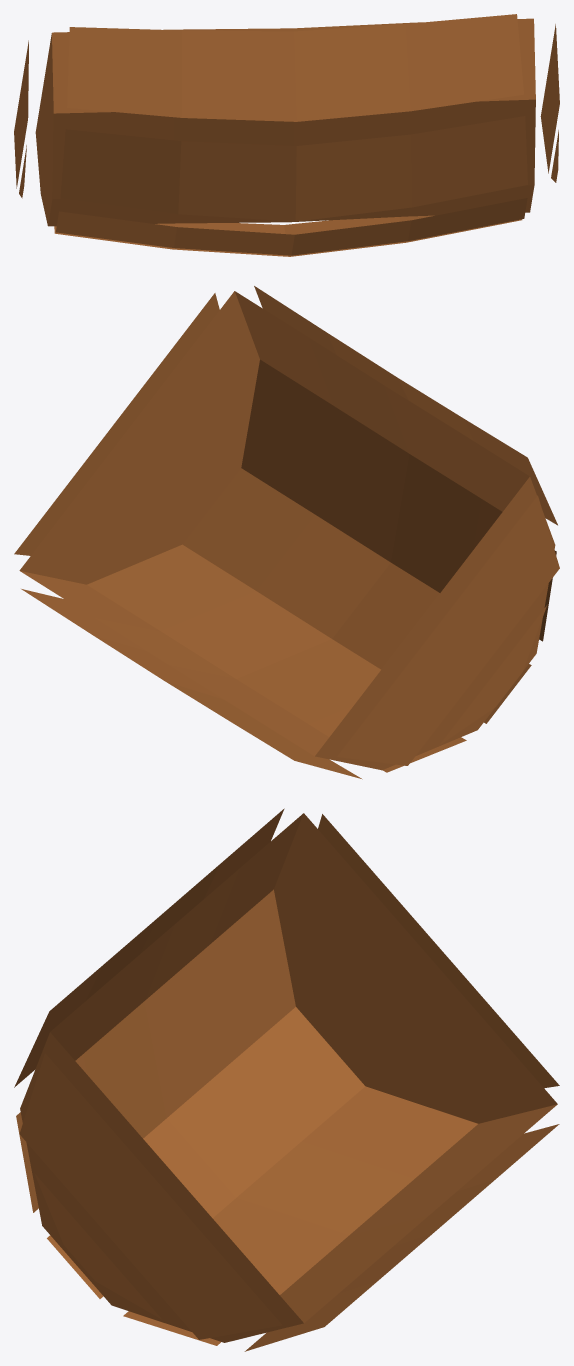
Rendered from n2_chest_top_light_brown_0_lev2.004.glb.
3 renders of one model, top to bottom at view 1: azimuth 30°, elevation 25°; view 2: azimuth 150°, elevation 25°; view 3: azimuth 270°, elevation 25°, orthographic. The views are drawn at different scales.
Visible parts, largest first — view 1: n2_chest_top_light_brown_0_lev2.004; view 2: n2_chest_top_light_brown_0_lev2.004; view 3: n2_chest_top_light_brown_0_lev2.004.
Part boxes in pixels (box(x1,y1,x2,y2)): n2_chest_top_light_brown_0_lev2.004: box(14, 14, 559, 256); n2_chest_top_light_brown_0_lev2.004: box(14, 286, 559, 779); n2_chest_top_light_brown_0_lev2.004: box(14, 808, 559, 1351).
Size of the model in its own units: 1.9 by 0.9515 by 1.49.
